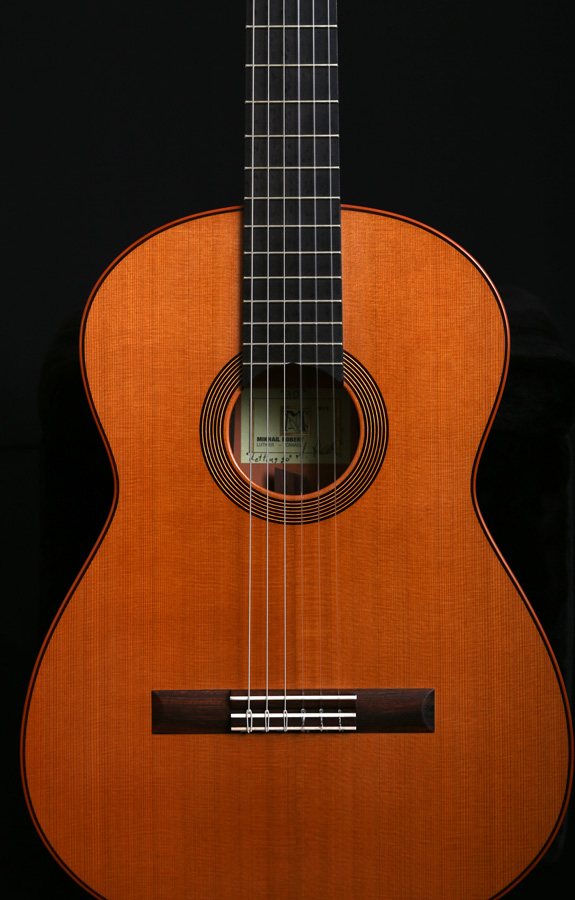guitar: (12, 204, 575, 900)
